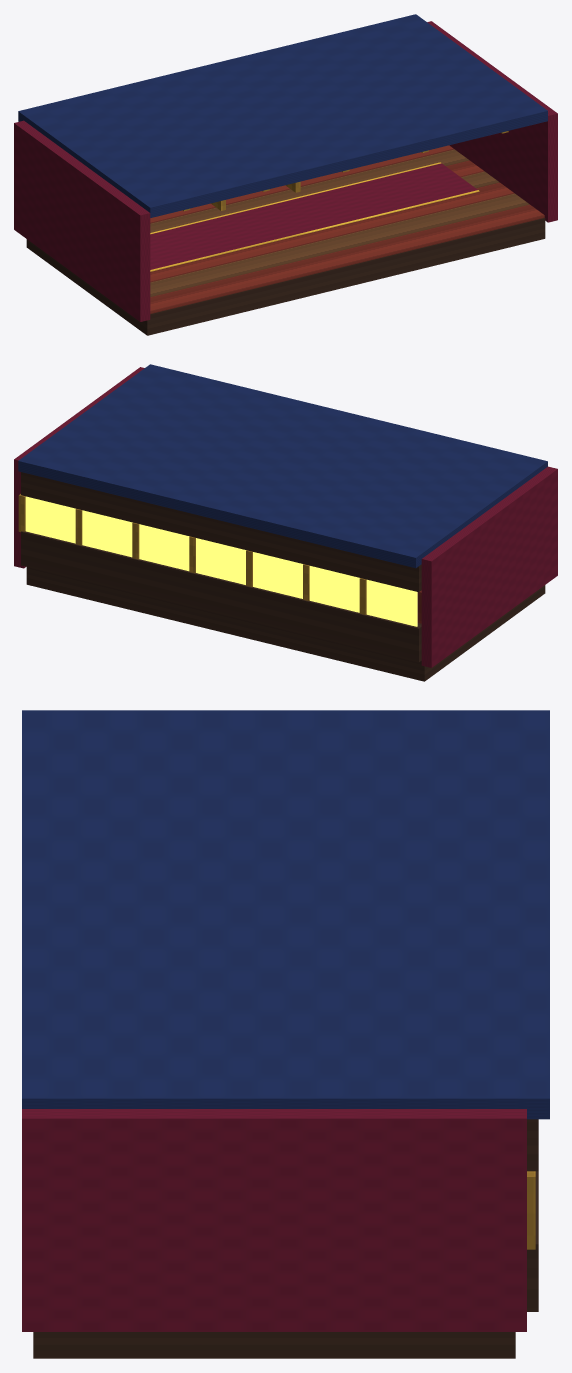
File: SM_Env_WarRoom_HQ.glb
The picture shows the model from 3 angles, top to bottom: view 1: azimuth 30°, elevation 25°; view 2: azimuth 150°, elevation 25°; view 3: azimuth 270°, elevation 25°; orthographic projection. The views are drawn at different scales.
Visible parts, largest first — view 1: SM_Env_WarRoom_HQ; view 2: SM_Env_WarRoom_HQ; view 3: SM_Env_WarRoom_HQ.
Part boxes in pixels (left/top/right/bottom): SM_Env_WarRoom_HQ: left=14, top=14, right=557, bottom=335; SM_Env_WarRoom_HQ: left=14, top=364, right=557, bottom=681; SM_Env_WarRoom_HQ: left=22, top=710, right=549, bottom=1358.
Bounding box in the file's own units: 16.8 × 5 × 9.2.
Materials: 1 (1 with a texture image).
